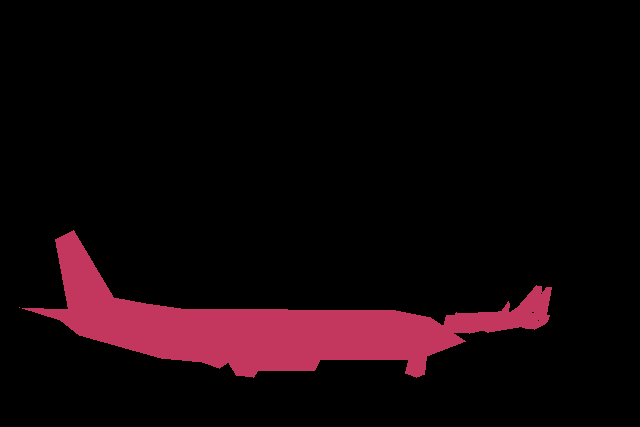Airplane: (19, 230, 466, 378), (443, 285, 541, 334), (522, 287, 552, 329), (454, 301, 509, 315)
